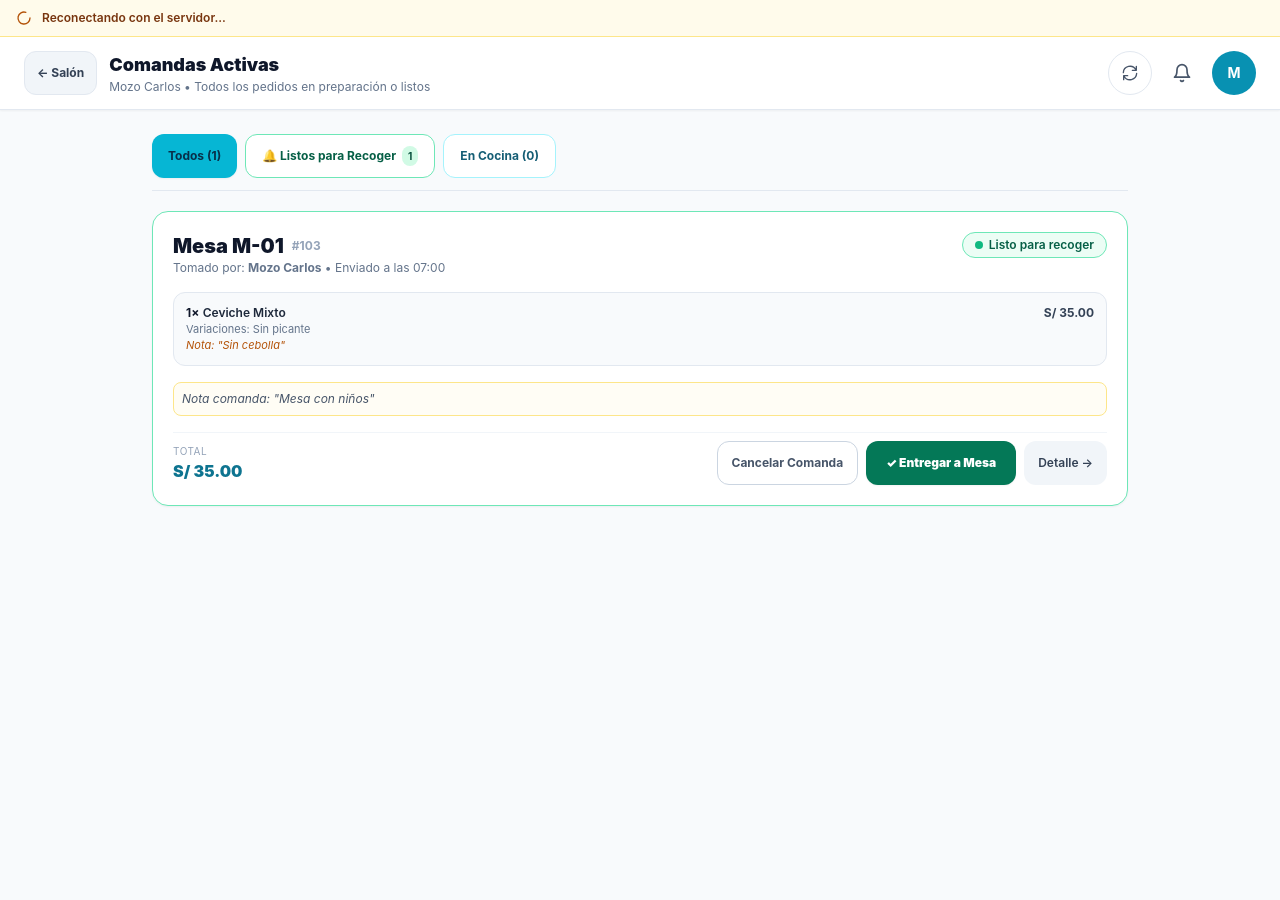
Waiter Orders Flow (Spec 003 UI) › ActiveOrdersPage: cancel modal requires a non-empty reason and warns when order is LISTO
This screenshot has width=1280, height=900.
Later steps or results of the test are not shown.
Expected: the text "#103" is shown, [292,238,321,254]
// Click "Cancelar Comanda"
Click the button "Cancelar Comanda": [787, 463] box [716,441,858,485]
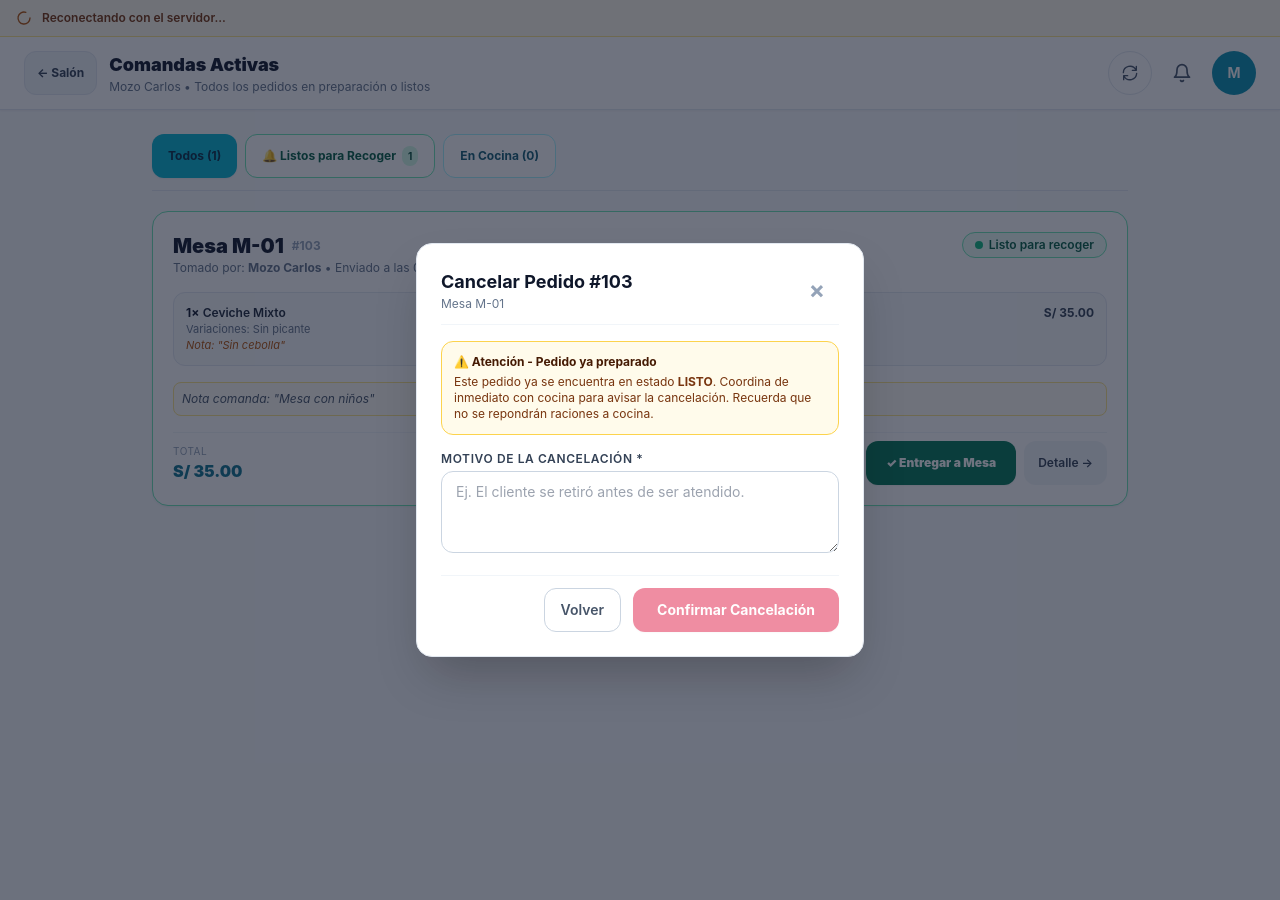
Expected: the heading "Cancelar Pedido #103" is shown, [441,268,632,296]
Expected: the text "Coordina de inmediato con cocina" is shown, [454,374,811,421]
Expected: the button "Confirmar Cancelación" is disabled, [633,588,839,632]
// Type reason
In the text box labelled "Motivo de la cancelación *": [640, 512] box [441,471,839,553], type "El cliente tuvo una emergencia"
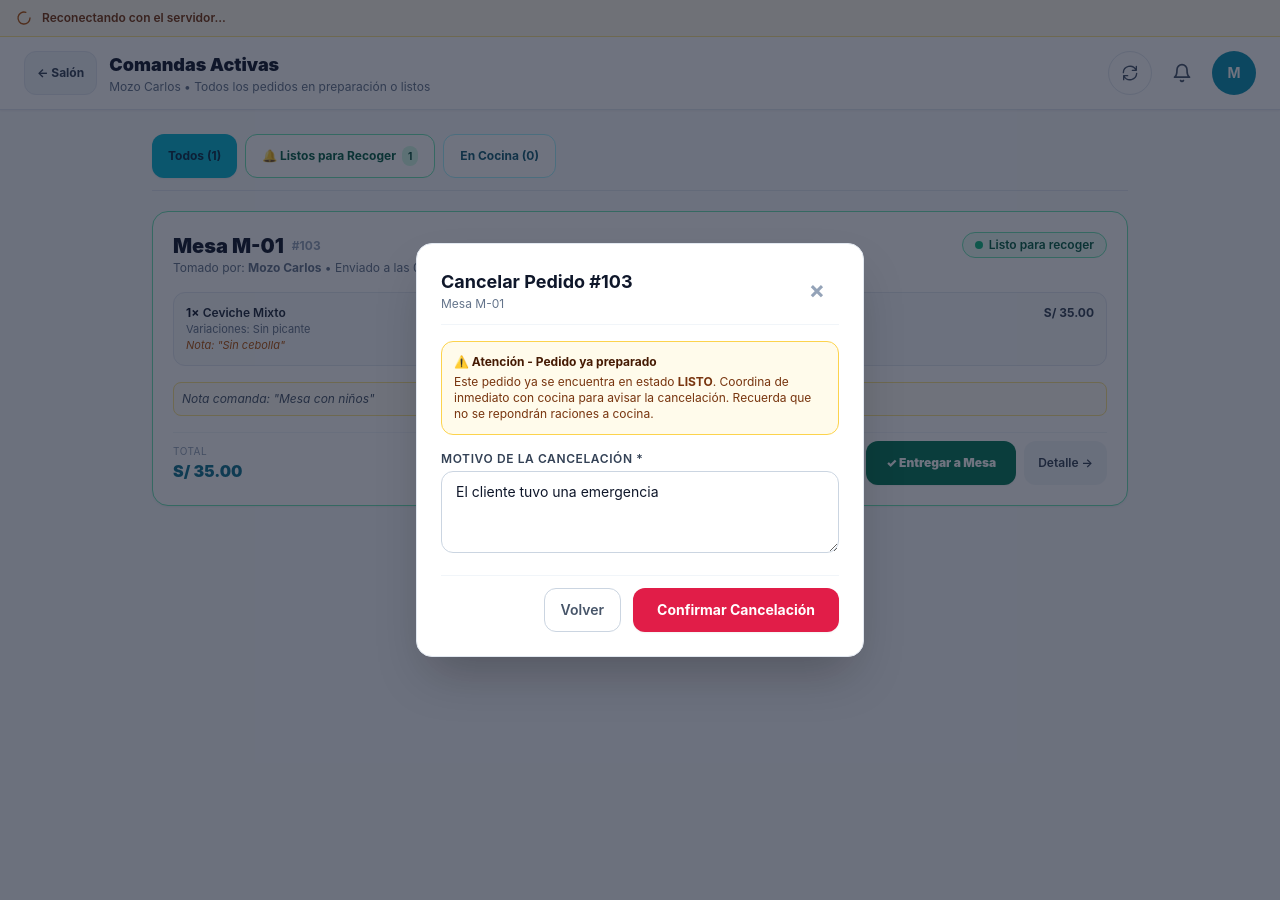
Expected: the button "Confirmar Cancelación" is enabled, [633,588,839,632]
